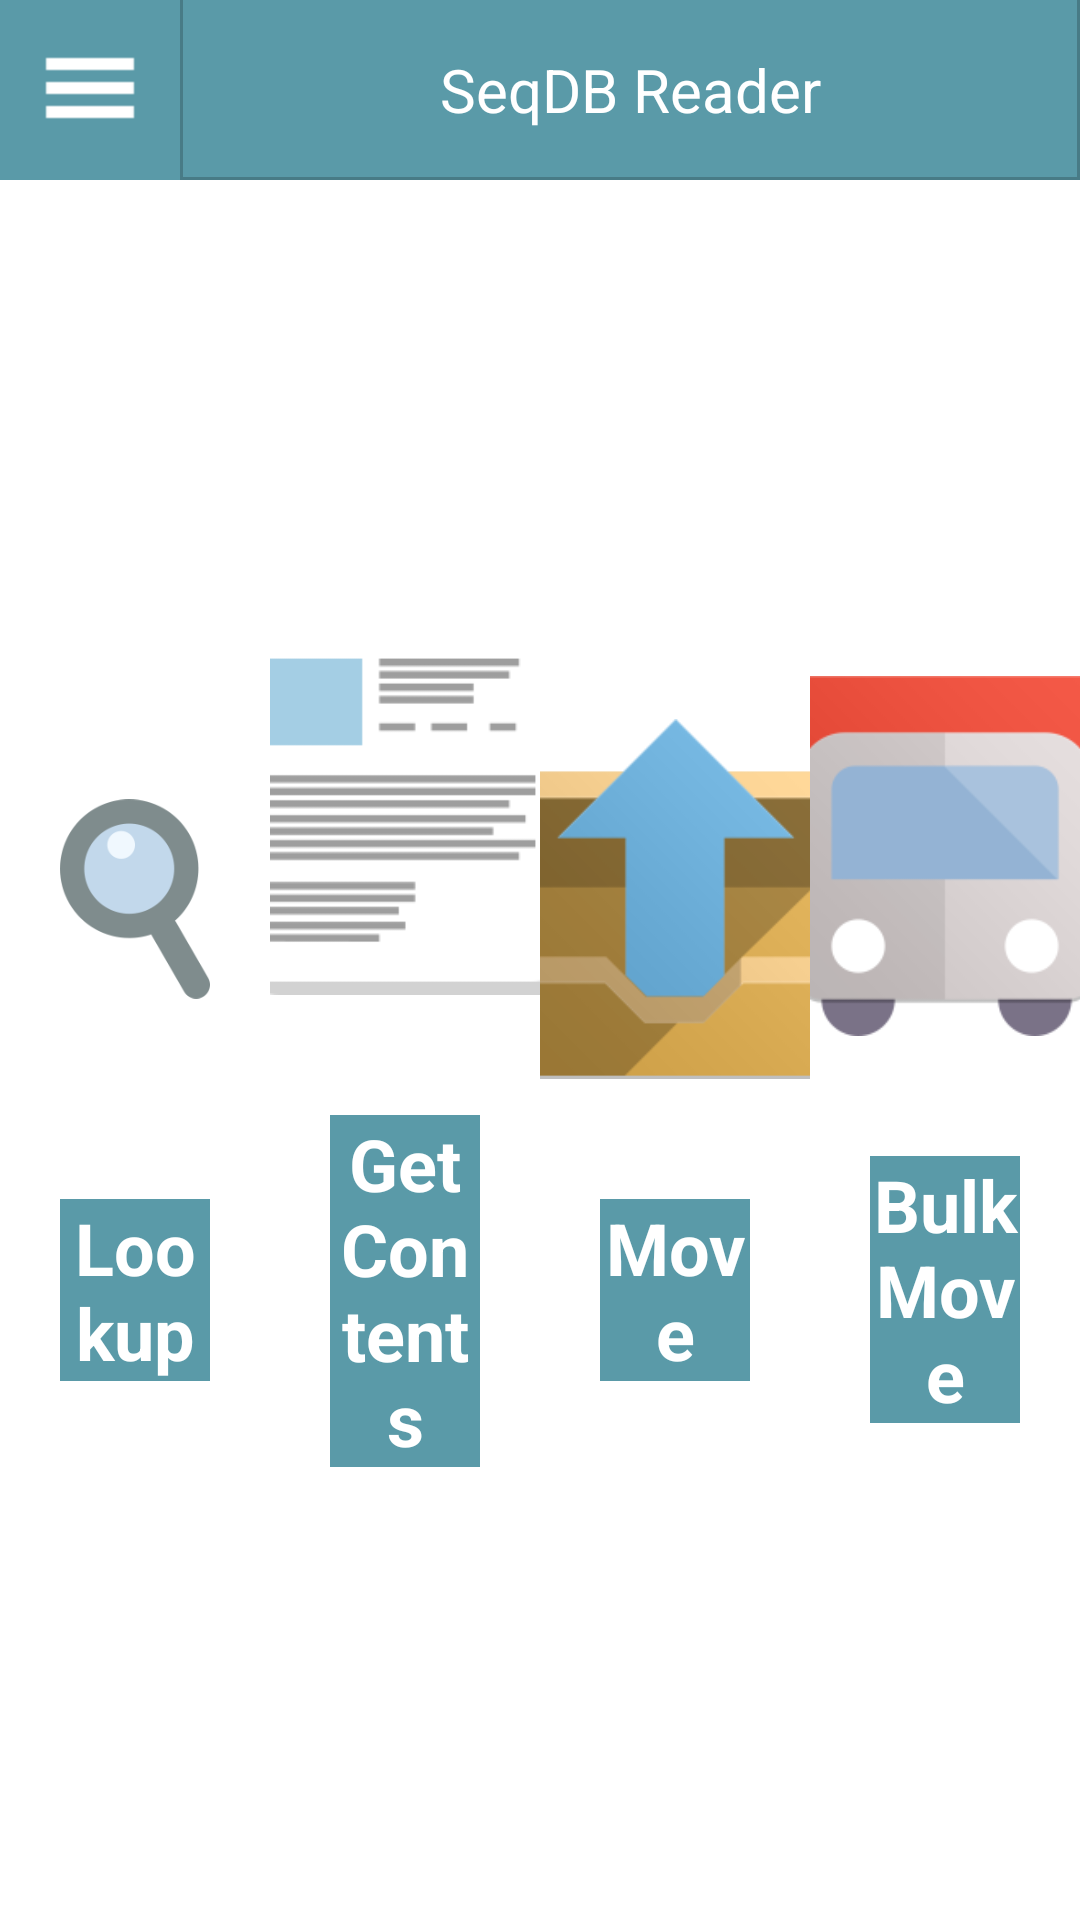

Icon click points for this 1080w x 1920h phone screenshot, format (x,y):
list: (90,90)
